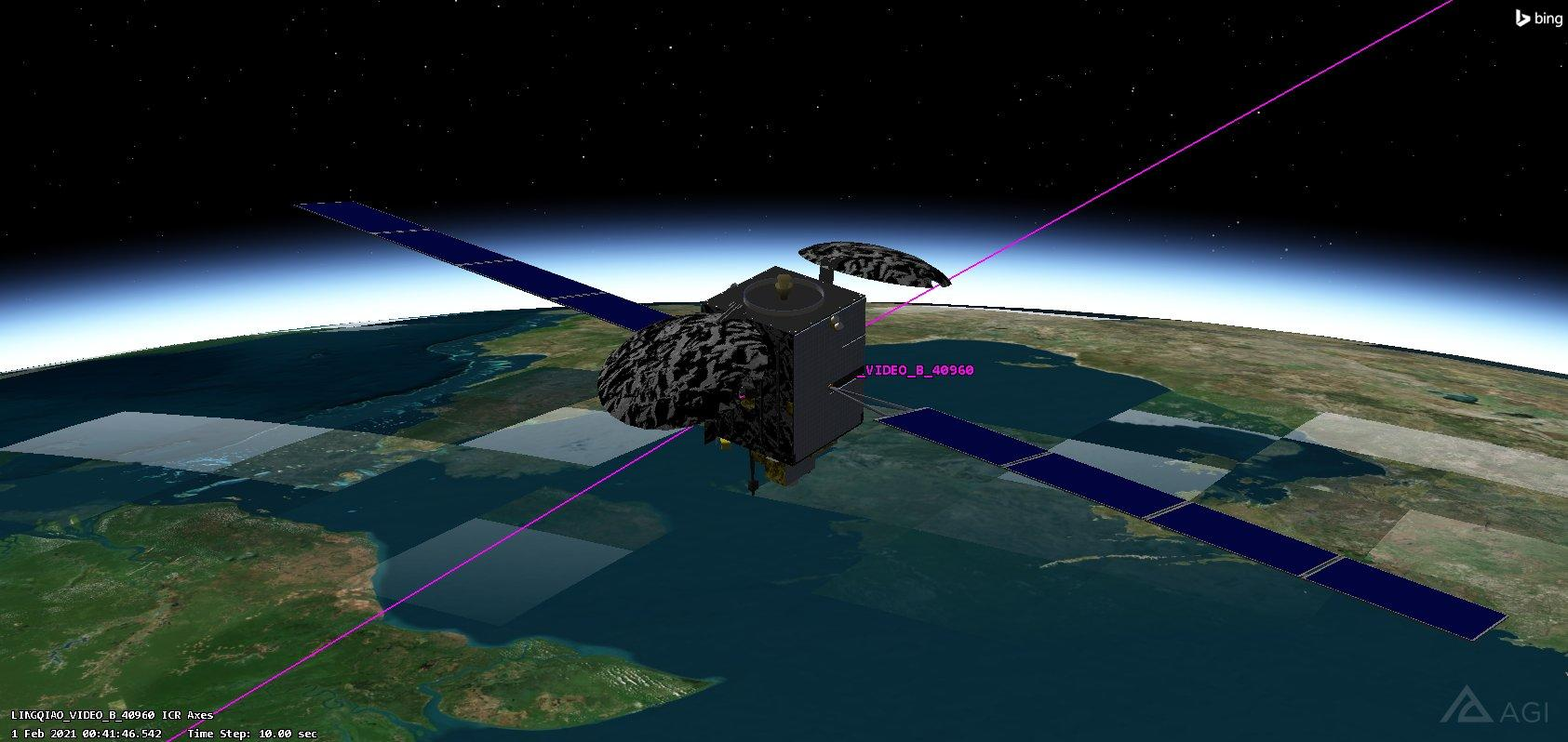antenna: (595, 311, 779, 432), (798, 237, 951, 291), (744, 446, 761, 500)
body: (701, 264, 870, 465)
solar: (872, 401, 1509, 645), (292, 195, 681, 334)
thruster: (771, 270, 797, 303)
